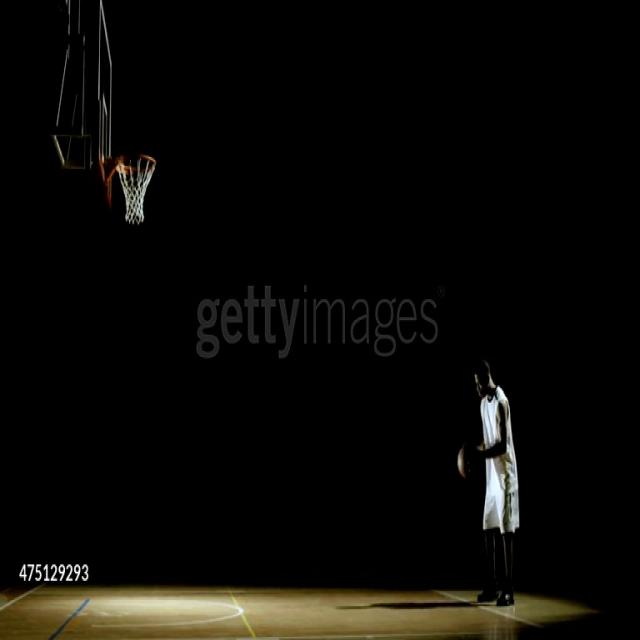ball: (456, 444, 476, 480)
